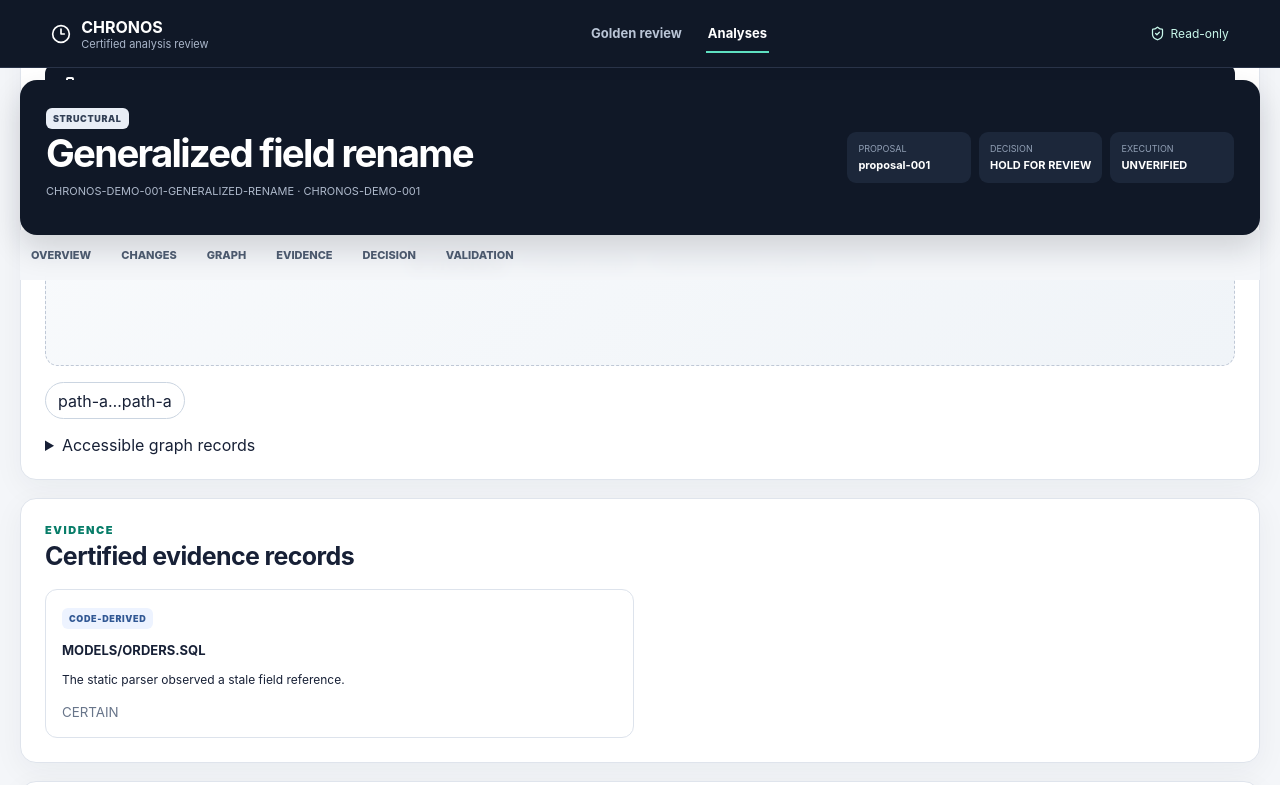
Test: Phase 6 certified analysis detail › selects a representative multi-root path
(page scrolled)
Expected: the heading "Generalized field rename" is shown, x1=46 y1=134 x2=473 y2=172
Click the button "path-a…path-a" at (115, 401), box x1=45 y1=382 x2=185 y2=419
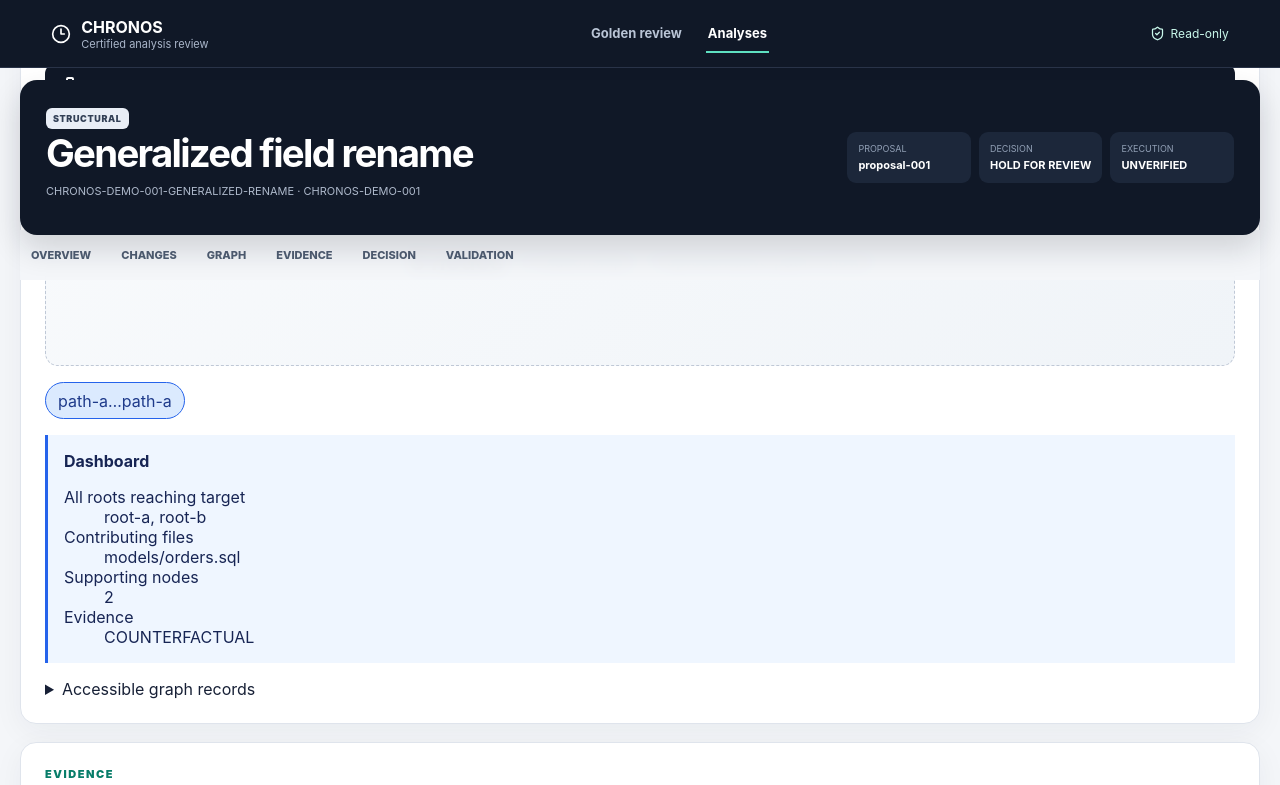
Expected: the text "root-a, root-b" is shown, x1=104 y1=507 x2=206 y2=527
Expected: the element named "Selected path traceability" is shown, x1=45 y1=435 x2=1235 y2=663
